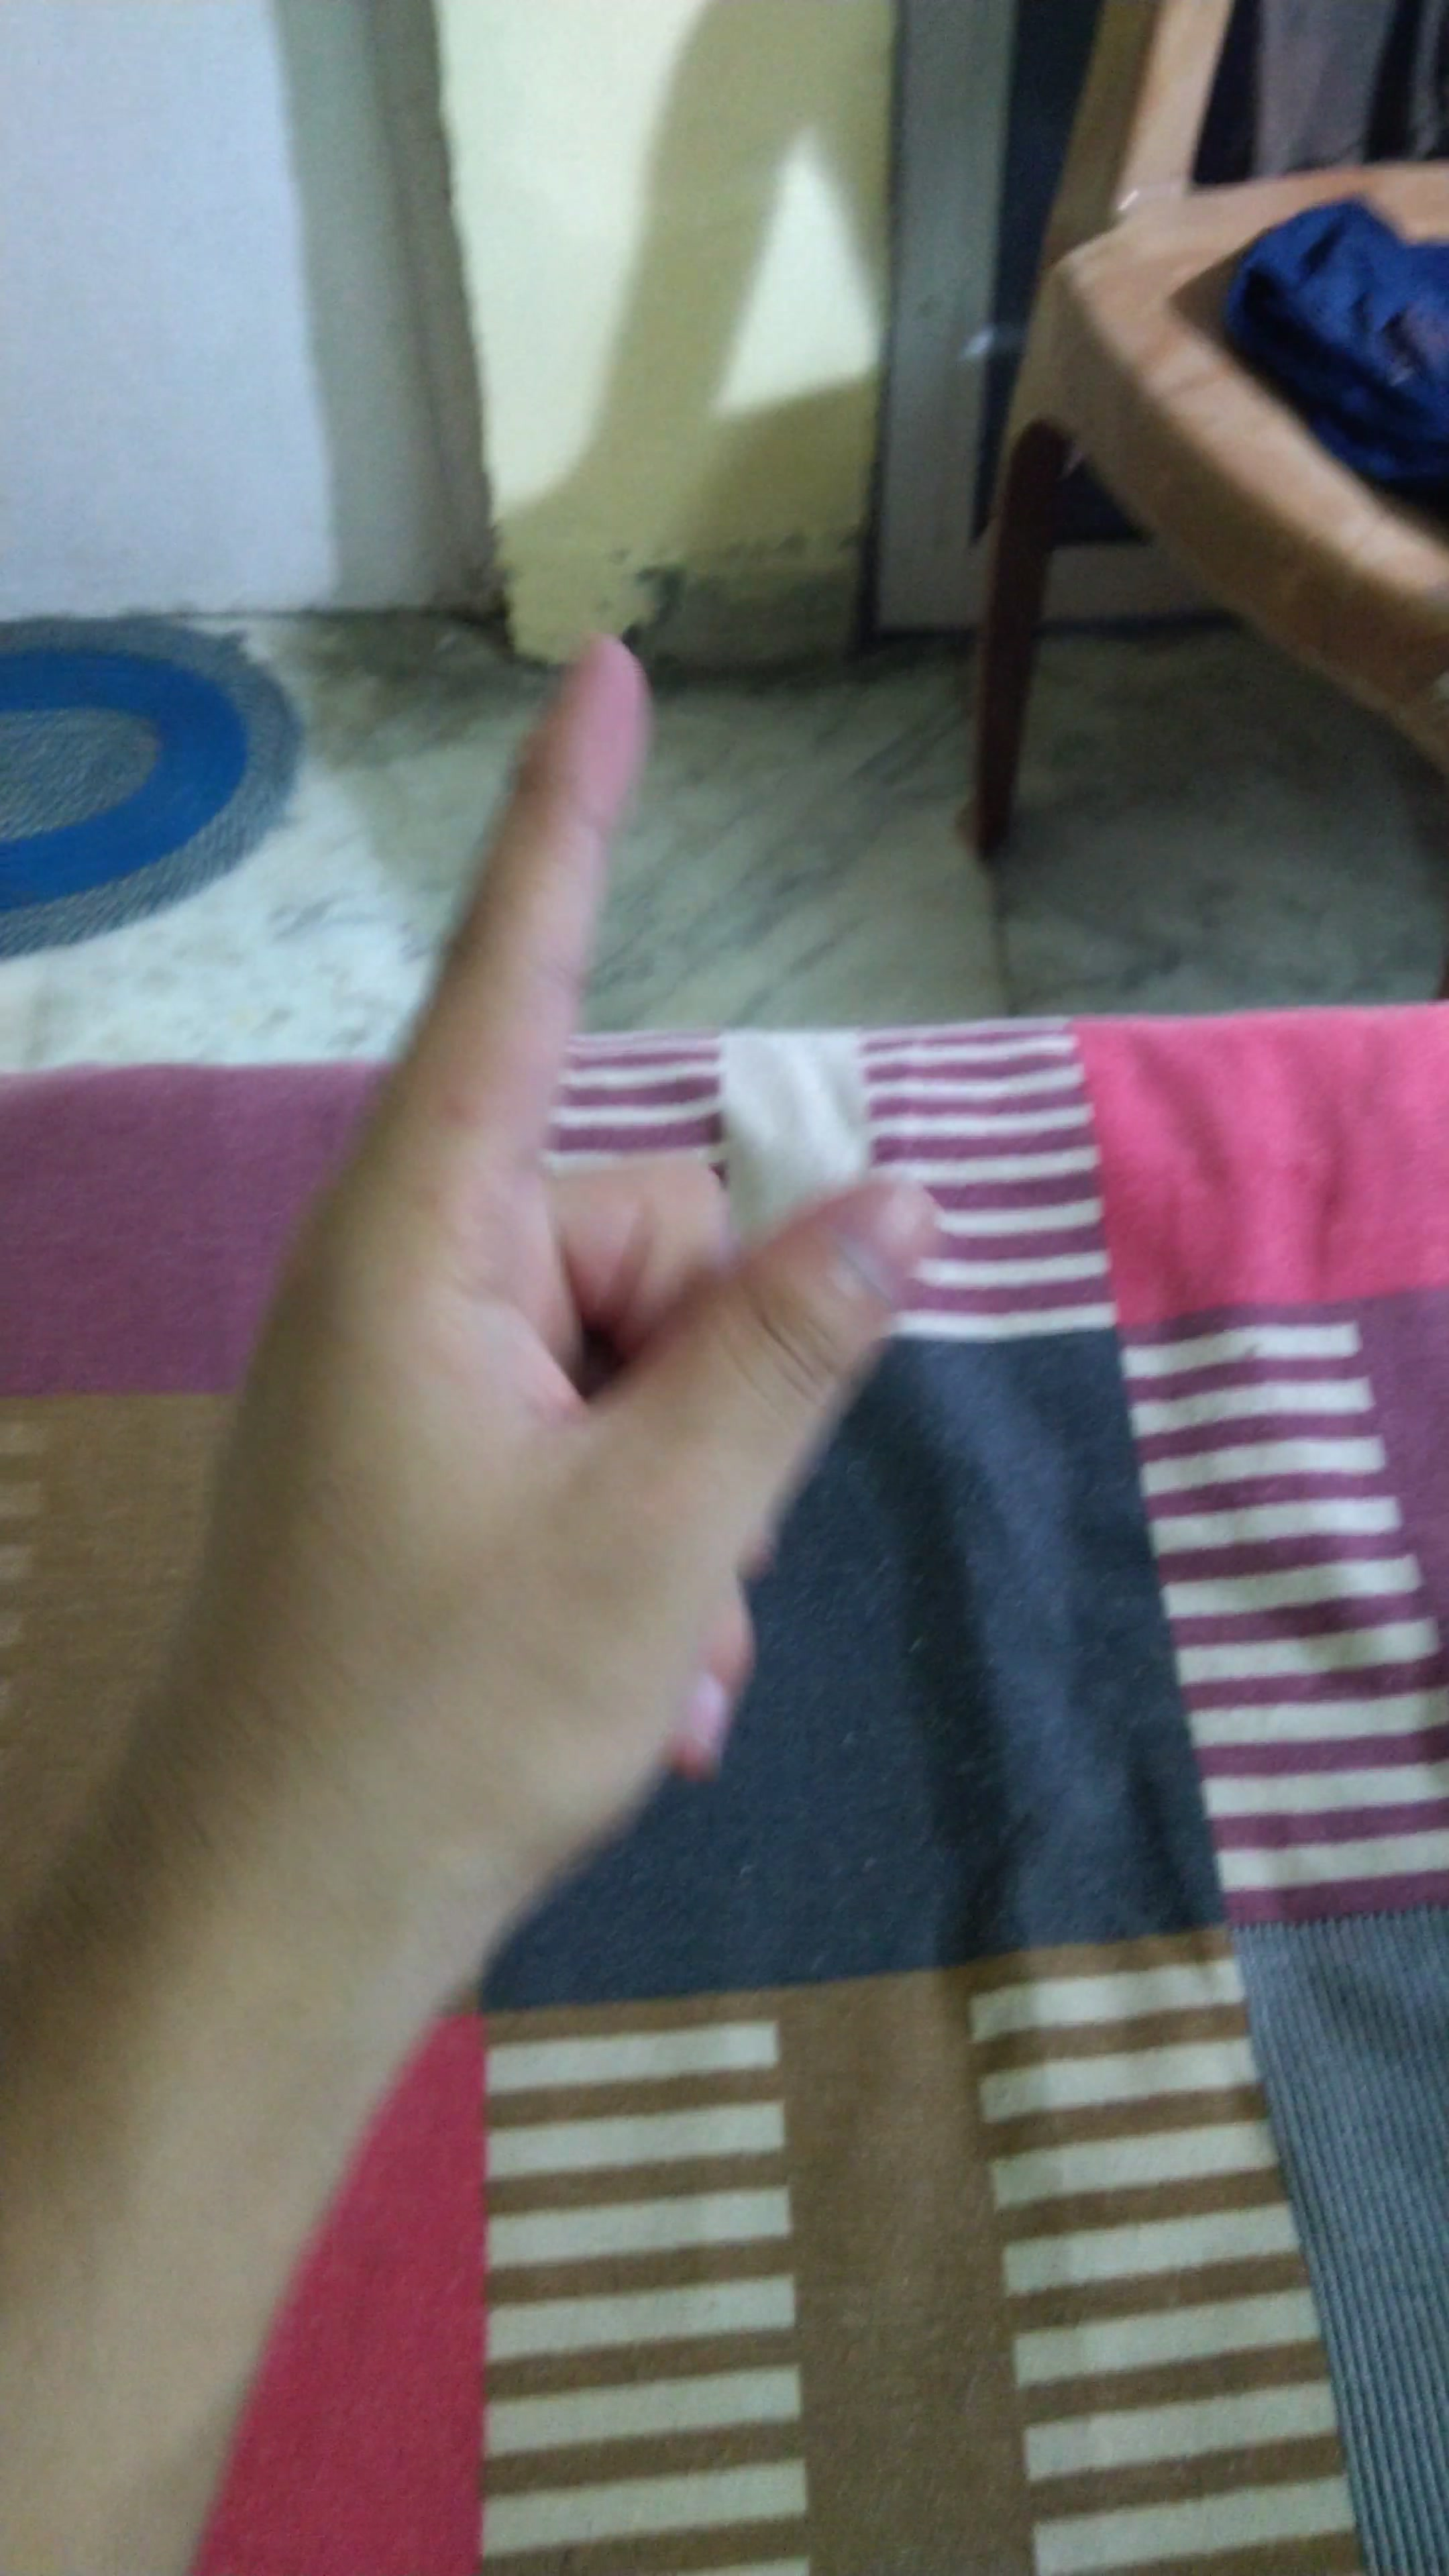hand: (170, 575, 1058, 1953)
